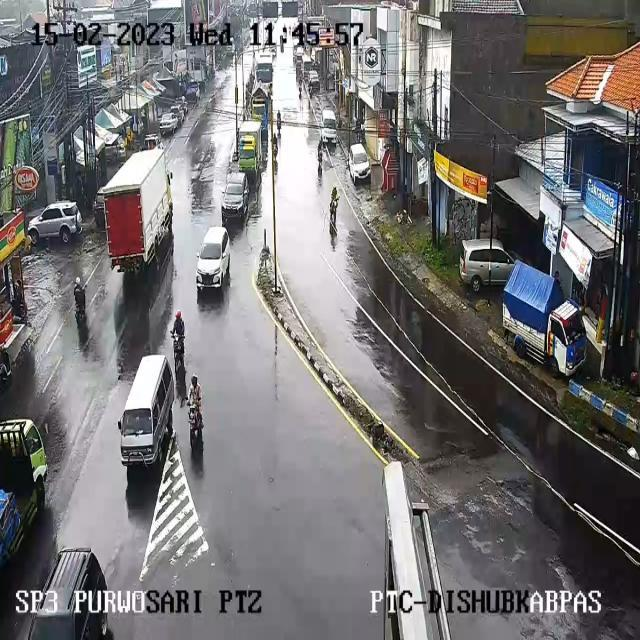Car: (25, 549, 110, 638), (118, 353, 176, 466), (1, 419, 48, 492), (459, 239, 517, 293), (27, 200, 82, 244), (195, 228, 231, 292), (221, 171, 251, 220), (347, 144, 370, 184), (320, 109, 338, 143), (93, 191, 107, 229), (158, 113, 180, 136), (170, 105, 185, 124), (306, 70, 320, 90), (176, 99, 188, 118), (303, 57, 315, 73), (294, 45, 304, 59)
Motorbike: (185, 377, 206, 445), (71, 277, 90, 339), (171, 312, 185, 352), (330, 193, 340, 233), (272, 135, 282, 160), (276, 110, 284, 134)
Truck: (97, 151, 187, 270), (503, 264, 586, 378), (237, 120, 266, 178), (255, 51, 274, 85), (250, 91, 268, 122)
